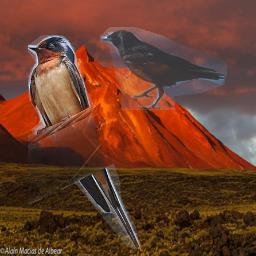Crow: (100, 27, 227, 110)
Swallow: (28, 35, 140, 249)
